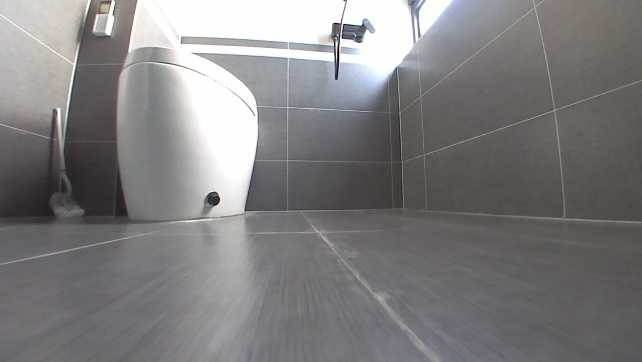toilet: (113, 43, 260, 221)
